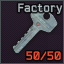Factory emergency exit key: (0, 0, 64, 64)
